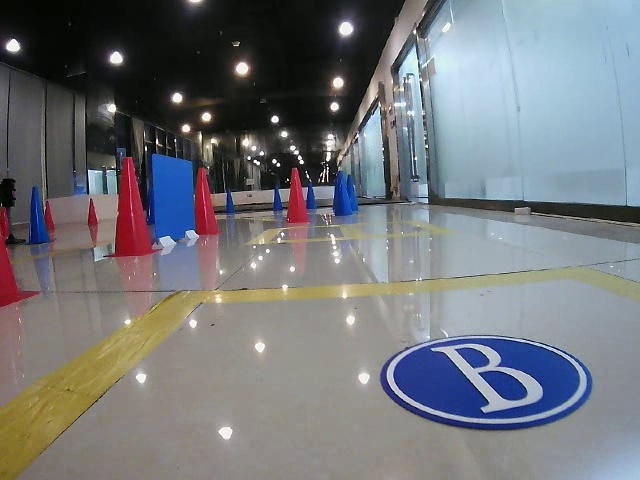B: (382, 338, 588, 426)
